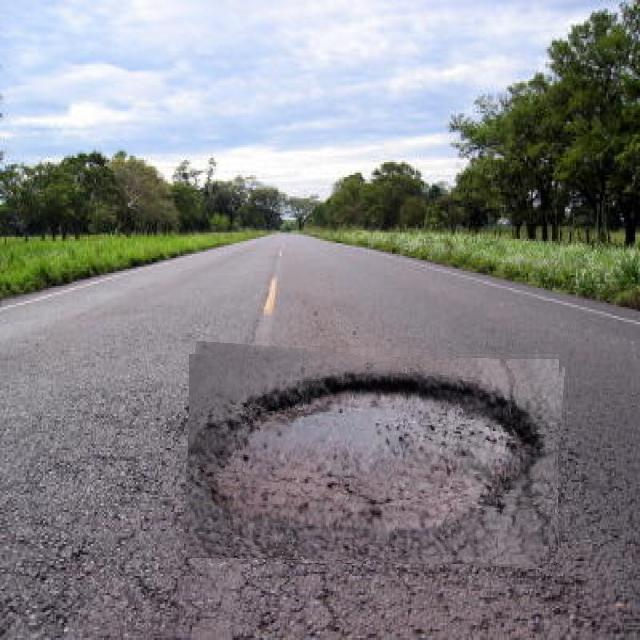Pothole: (186, 348, 562, 564)
